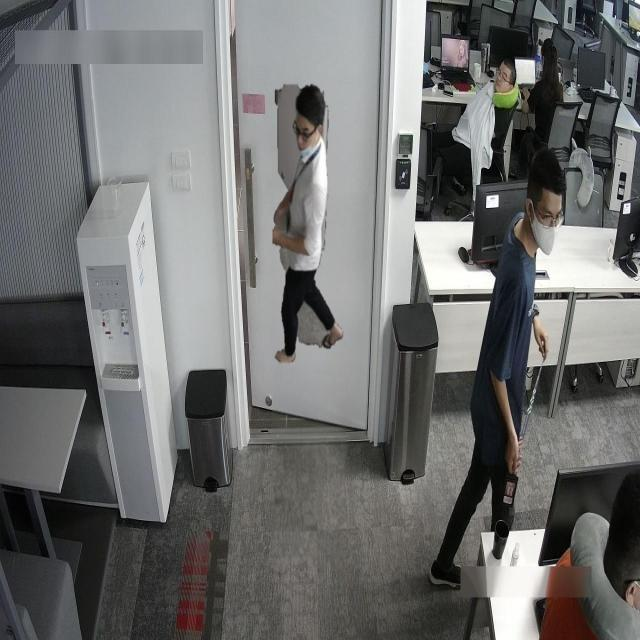hairnet: (295, 109, 315, 158)
